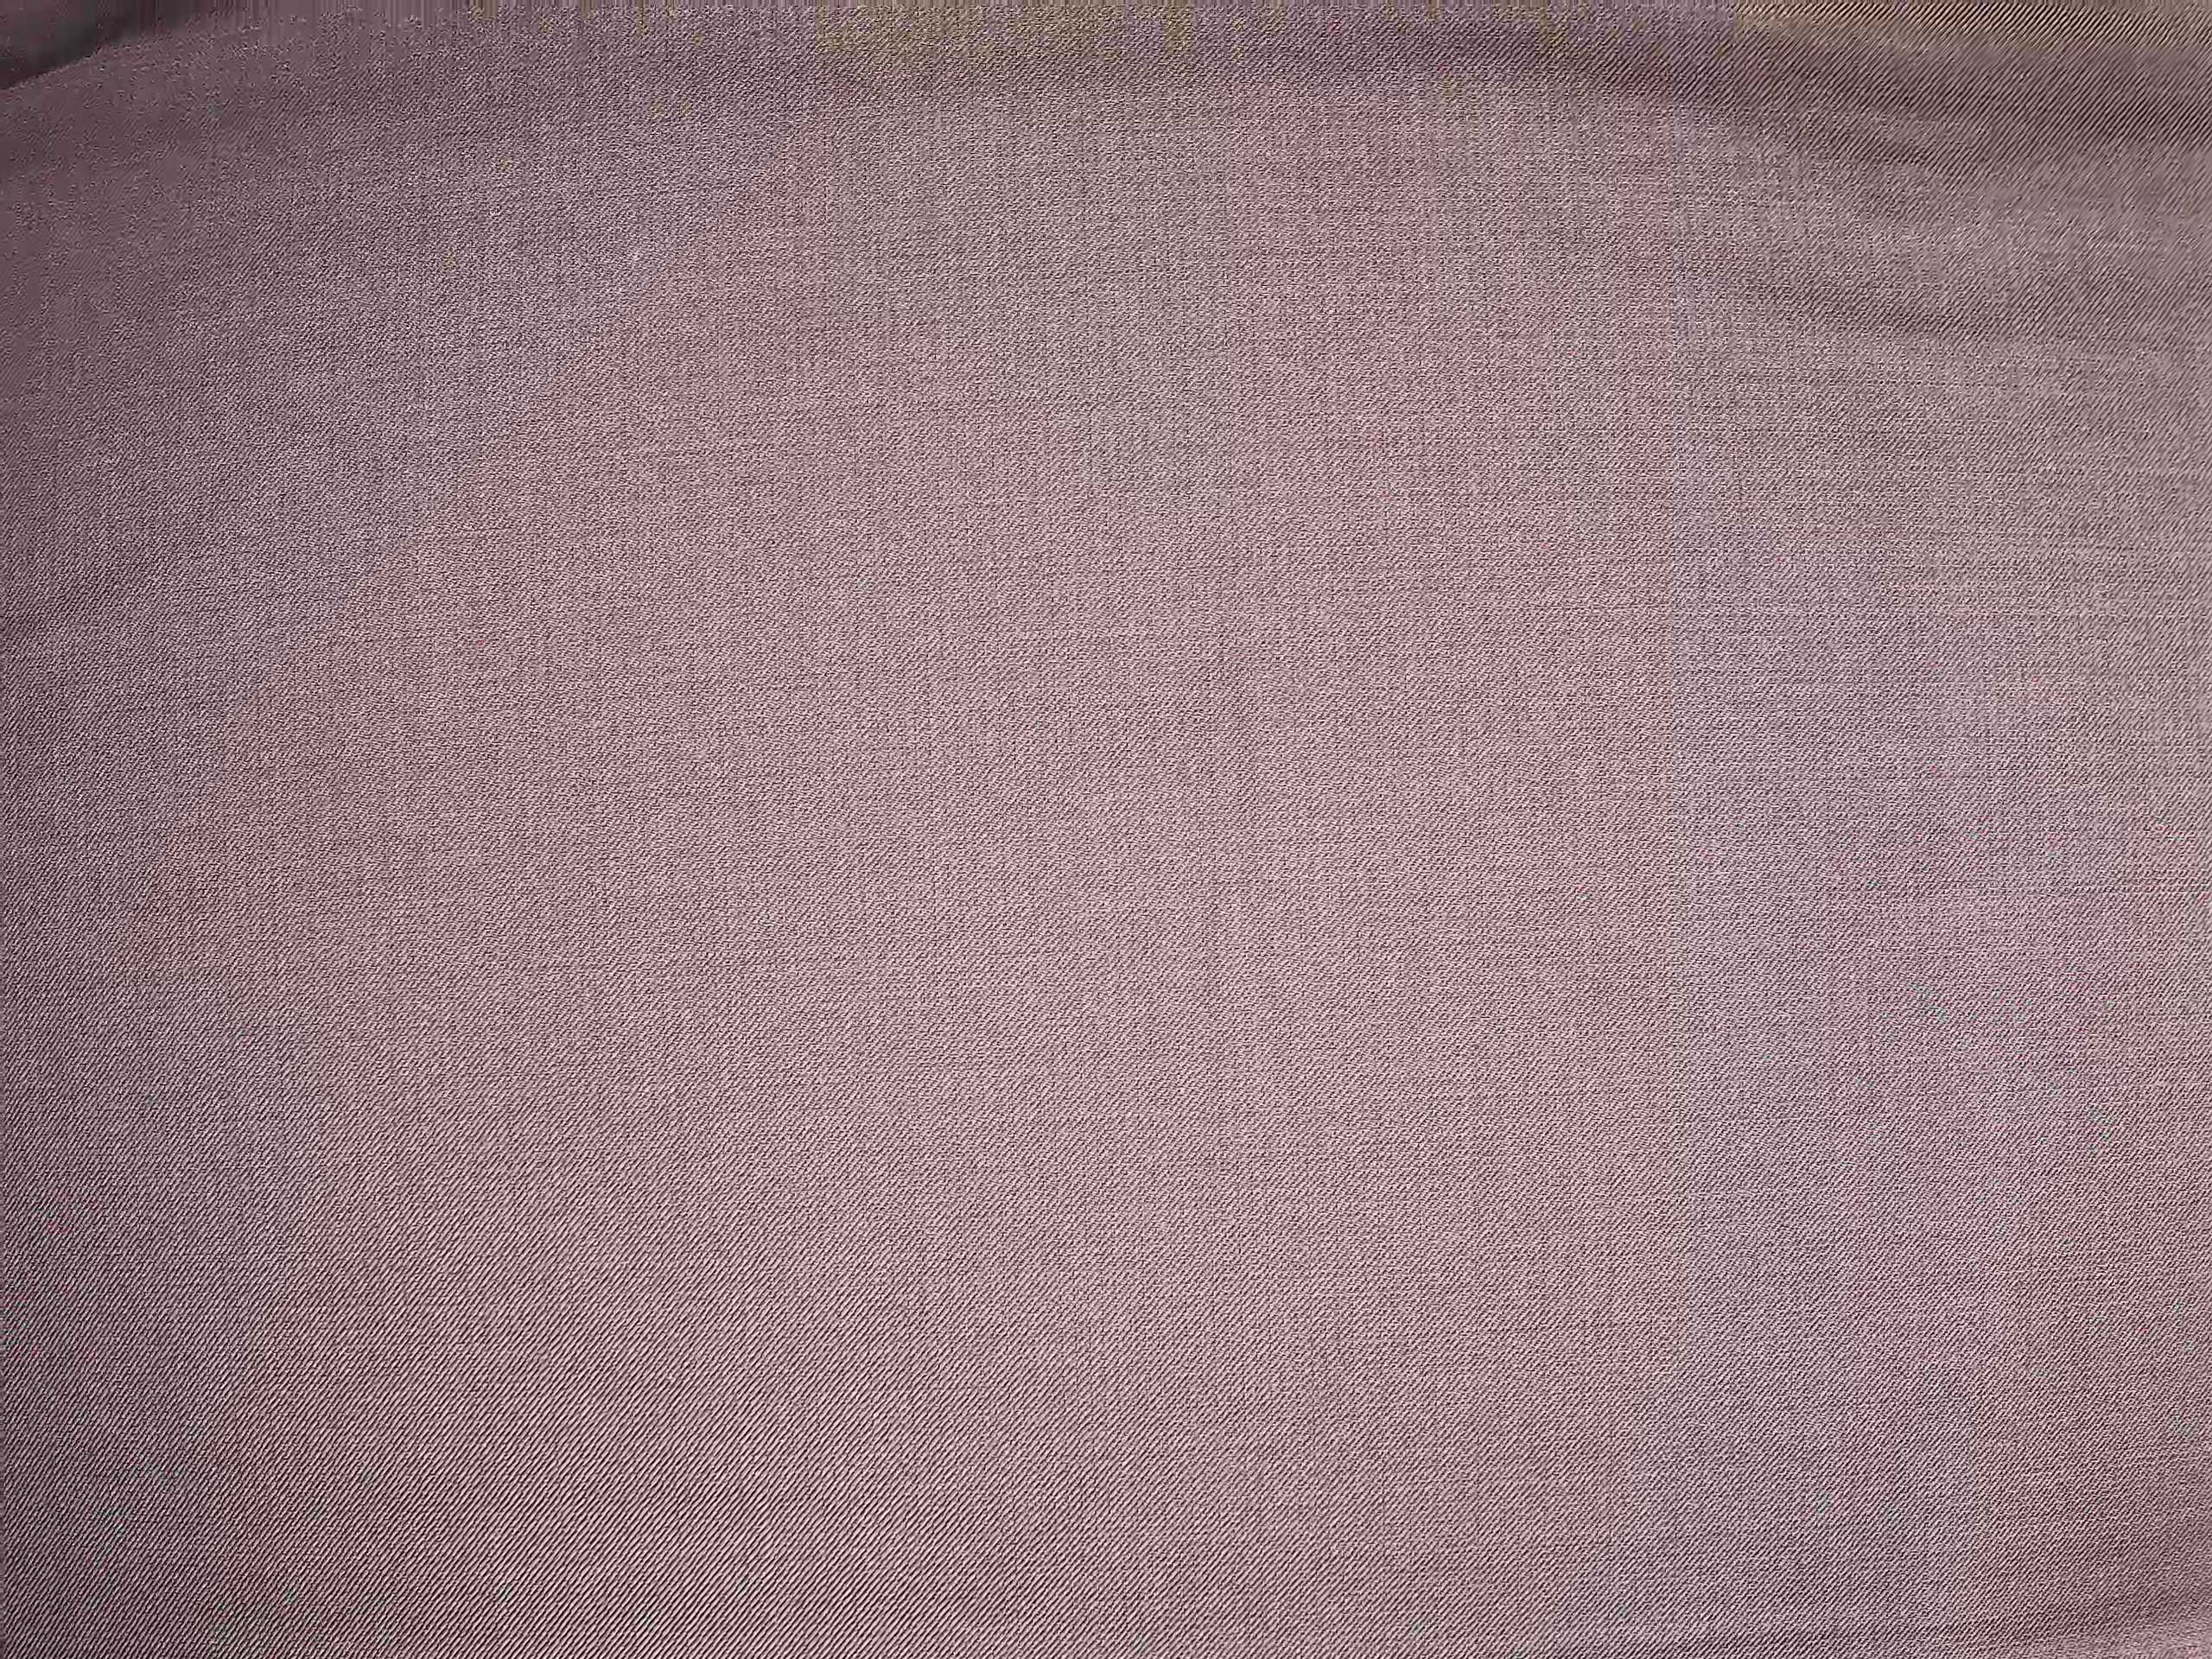brushed-hole: (1176, 577, 1277, 856)
